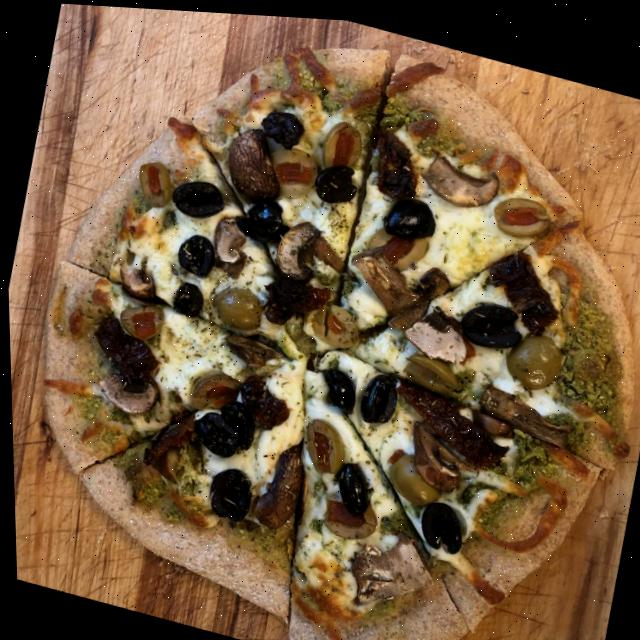black_olives: (451, 289, 528, 350), (375, 184, 442, 242), (200, 456, 255, 523), (165, 166, 230, 222), (411, 491, 468, 551), (229, 188, 292, 242), (306, 151, 363, 209), (355, 361, 399, 426), (328, 450, 374, 512), (184, 405, 240, 455), (209, 394, 258, 450), (256, 101, 308, 147), (172, 225, 217, 278), (312, 359, 358, 410), (166, 273, 206, 317)
green_olives: (496, 317, 568, 390), (487, 178, 555, 240), (393, 342, 464, 395), (293, 404, 346, 473), (380, 448, 443, 506), (205, 277, 266, 334), (306, 295, 364, 349), (315, 112, 367, 171), (373, 222, 431, 274), (321, 489, 376, 541), (184, 365, 243, 413), (130, 149, 177, 209), (113, 297, 162, 341)
mushrooms: (337, 237, 449, 338), (337, 516, 436, 617), (467, 375, 575, 436), (415, 144, 510, 211), (249, 428, 309, 531), (219, 122, 288, 201), (399, 416, 471, 490), (397, 299, 472, 360), (93, 356, 159, 418), (271, 210, 327, 279), (212, 326, 277, 373), (206, 200, 251, 266), (111, 255, 160, 298)
pizza: (0, 0, 640, 640)
